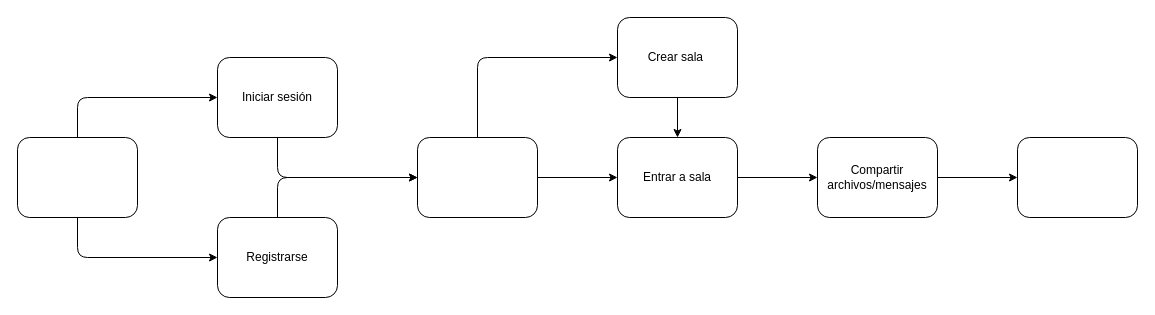
Some shapes in this 1155 by 315 pixel diagram are drawn without their labels. Here are the shapes that lost their labels. From the top down, the centre of each, then its label:
At [77,177]: "Usuario".
At [477,177]: "Página principal".
At [1077,177]: "Cerrar sesión".
